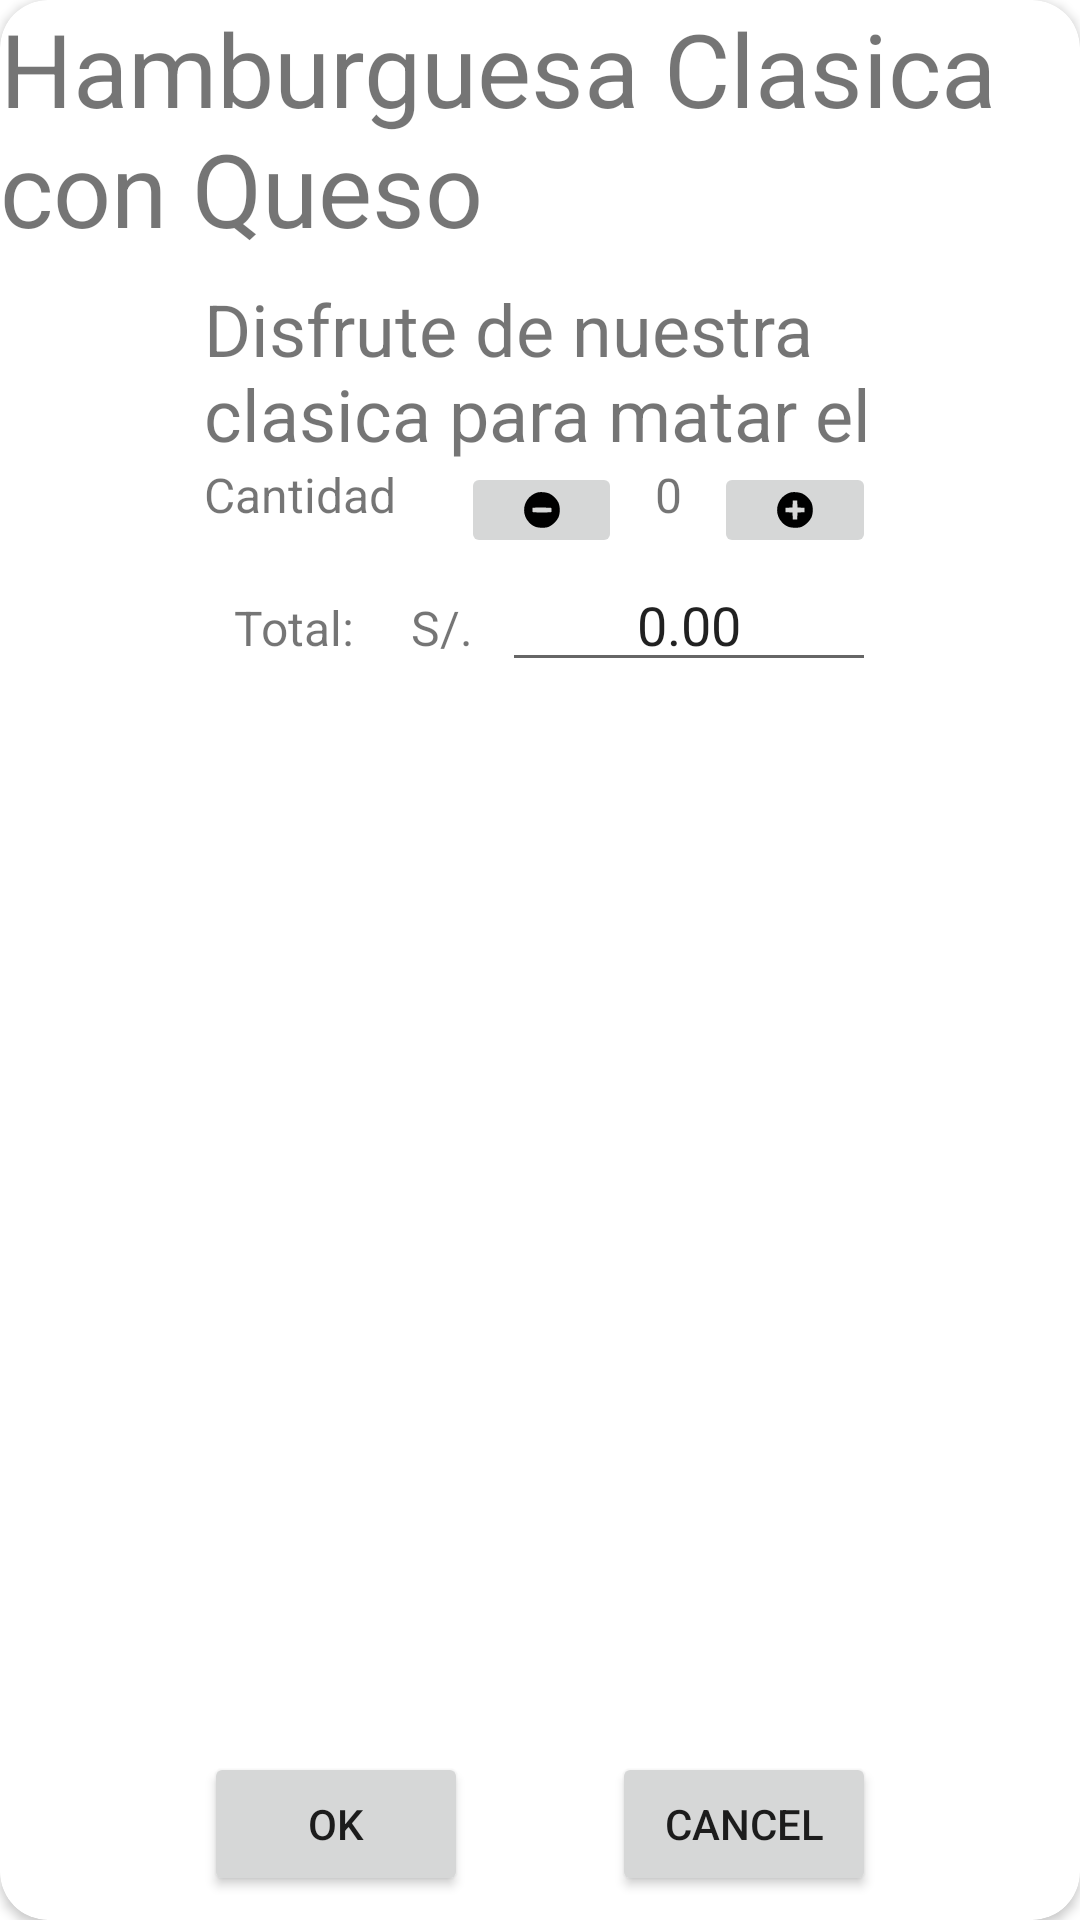

Where to tap for icons on this 1080 × 1920 app screen, as (x=x, y=y):
less: (x=541, y=510)
plus: (x=795, y=510)
